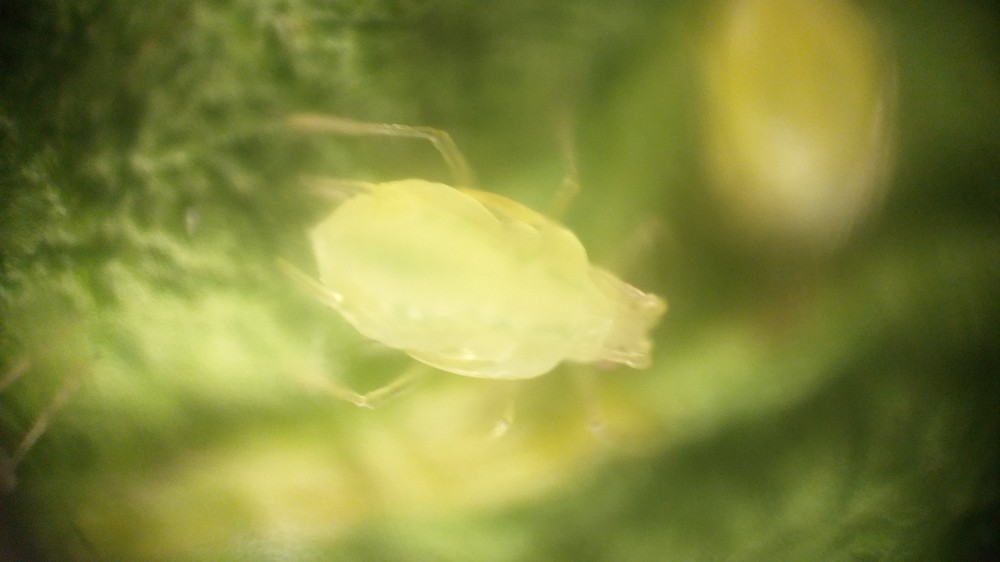Pulgon: (227, 94, 704, 470)
